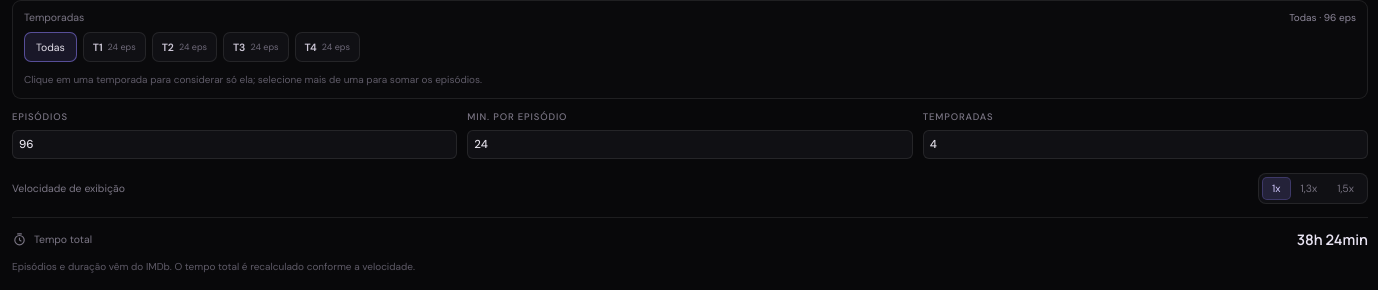
Test: TimeFields (séries) › ao escolher T2, considera só a temporada 2
Click the button "T2 24 eps" at x=184, y=47, box [152,32,217,62]
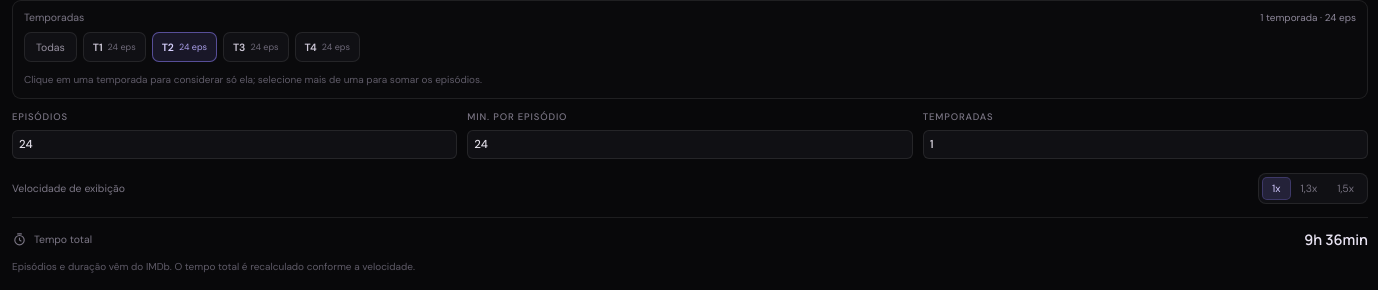
Now the text "1 temporada · 24 eps" is shown, box [1260,11,1356,24]
Now the text "9h 36min" is shown, box [1304,230,1368,248]
Now the field named "Quantidade de episódios" holds "24", box [12,130,457,158]
